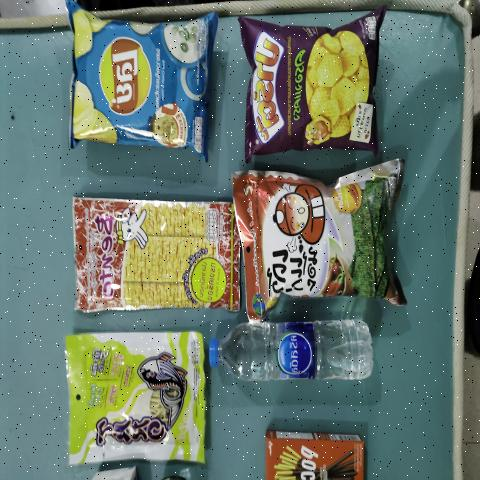bento_red: (83, 212, 230, 308)
crystal: (208, 318, 382, 382)
lay_blue: (82, 30, 198, 132)
party_purple: (254, 34, 366, 144)
taokaenoi: (262, 183, 386, 291)
taro_yellow: (81, 348, 199, 460)
